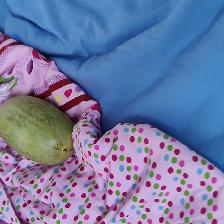gua: (8, 91, 69, 159)
